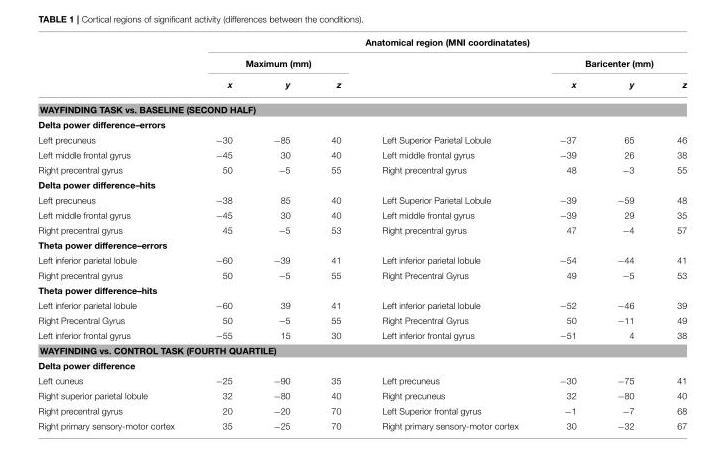table: (37, 37, 686, 430)
table column: (360, 37, 538, 430), (37, 37, 194, 430), (194, 37, 252, 430), (252, 37, 310, 430), (538, 37, 596, 430), (596, 37, 654, 430), (310, 37, 360, 430), (654, 37, 686, 430)
table column header: (37, 37, 686, 97)
table projected row header: (37, 97, 686, 117), (37, 117, 686, 132), (37, 177, 686, 192), (37, 237, 686, 252), (37, 282, 686, 297), (37, 343, 686, 358), (37, 358, 686, 373)
table row: (37, 74, 686, 97), (37, 52, 686, 74), (37, 97, 686, 117), (37, 312, 686, 328), (37, 37, 686, 52), (37, 117, 686, 132), (37, 132, 686, 147), (37, 147, 686, 162), (37, 162, 686, 177), (37, 177, 686, 192), (37, 192, 686, 207), (37, 207, 686, 222), (37, 222, 686, 237), (37, 237, 686, 252), (37, 252, 686, 267), (37, 267, 686, 282), (37, 282, 686, 297), (37, 297, 686, 312), (37, 328, 686, 343), (37, 343, 686, 358), (37, 358, 686, 373), (37, 373, 686, 388), (37, 388, 686, 403), (37, 403, 686, 418), (37, 418, 686, 430)
table spanning cell: (194, 37, 686, 52), (194, 52, 360, 74), (538, 52, 686, 74)
